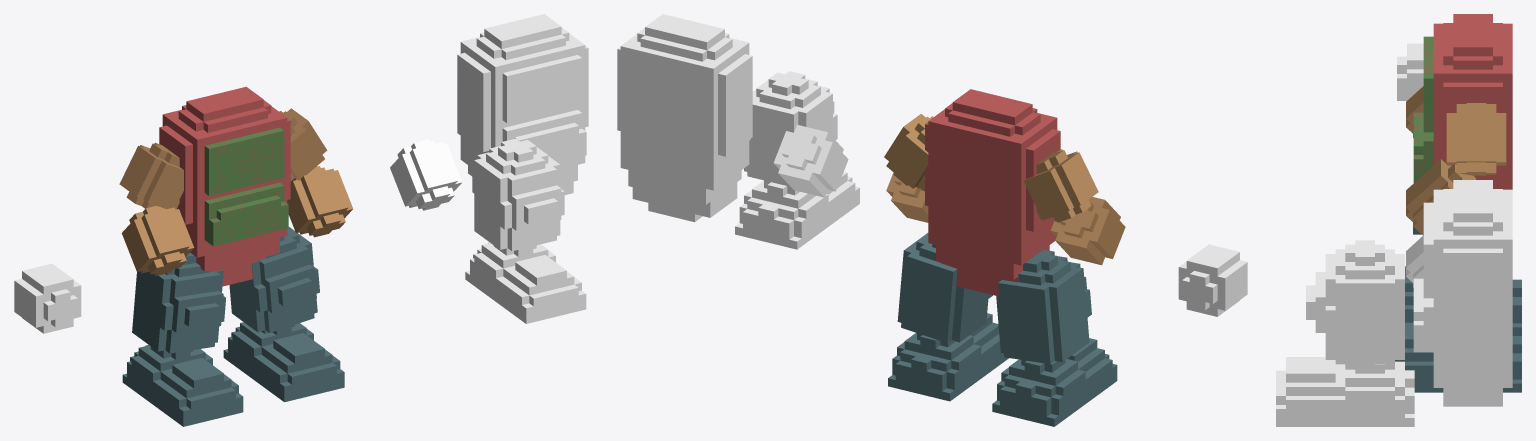
Rendered from EarthOgre.dae.
The picture shows the model from 3 angles, left to right: view 1: azimuth 30°, elevation 25°; view 2: azimuth 150°, elevation 25°; view 3: azimuth 270°, elevation 25°; orthographic projection. The views are drawn at different scales.
Parts seen in each view (by area): view 1: SketchUp (×17), Component_4 (×5), Component_2 (×3), Component_1, Component_3 (×2); view 2: SketchUp (×15), Component_4 (×3), Component_2 (×3), Component_1, Component_3 (×2); view 3: SketchUp (×15), Component_4 (×5), Component_2 (×3), Component_1, Component_3.
Part boxes in pixels (left/top/right/bottom): SketchUp (×17): left=14, top=86, right=352, bottom=426; Component_4 (×5): left=457, top=14, right=586, bottom=194; Component_2 (×3): left=474, top=138, right=564, bottom=251; Component_1: left=465, top=242, right=586, bottom=323; Component_3 (×2): left=390, top=142, right=462, bottom=210; SketchUp (×15): left=884, top=89, right=1247, bottom=426; Component_4 (×3): left=620, top=14, right=752, bottom=222; Component_2 (×3): left=744, top=71, right=837, bottom=186; Component_1: left=735, top=172, right=859, bottom=249; Component_3 (×2): left=773, top=124, right=848, bottom=197; SketchUp (×15): left=1395, top=14, right=1521, bottom=392; Component_4 (×5): left=1413, top=180, right=1512, bottom=406; Component_2 (×3): left=1306, top=240, right=1404, bottom=364; Component_1: left=1276, top=357, right=1414, bottom=426; Component_3: left=1406, top=235, right=1423, bottom=278.
Size of the model in its own units: 2979 by 977 by 1392.
